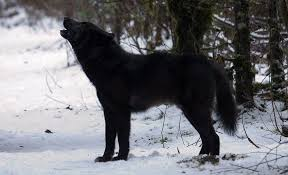Lobo: (50, 15, 249, 165)
